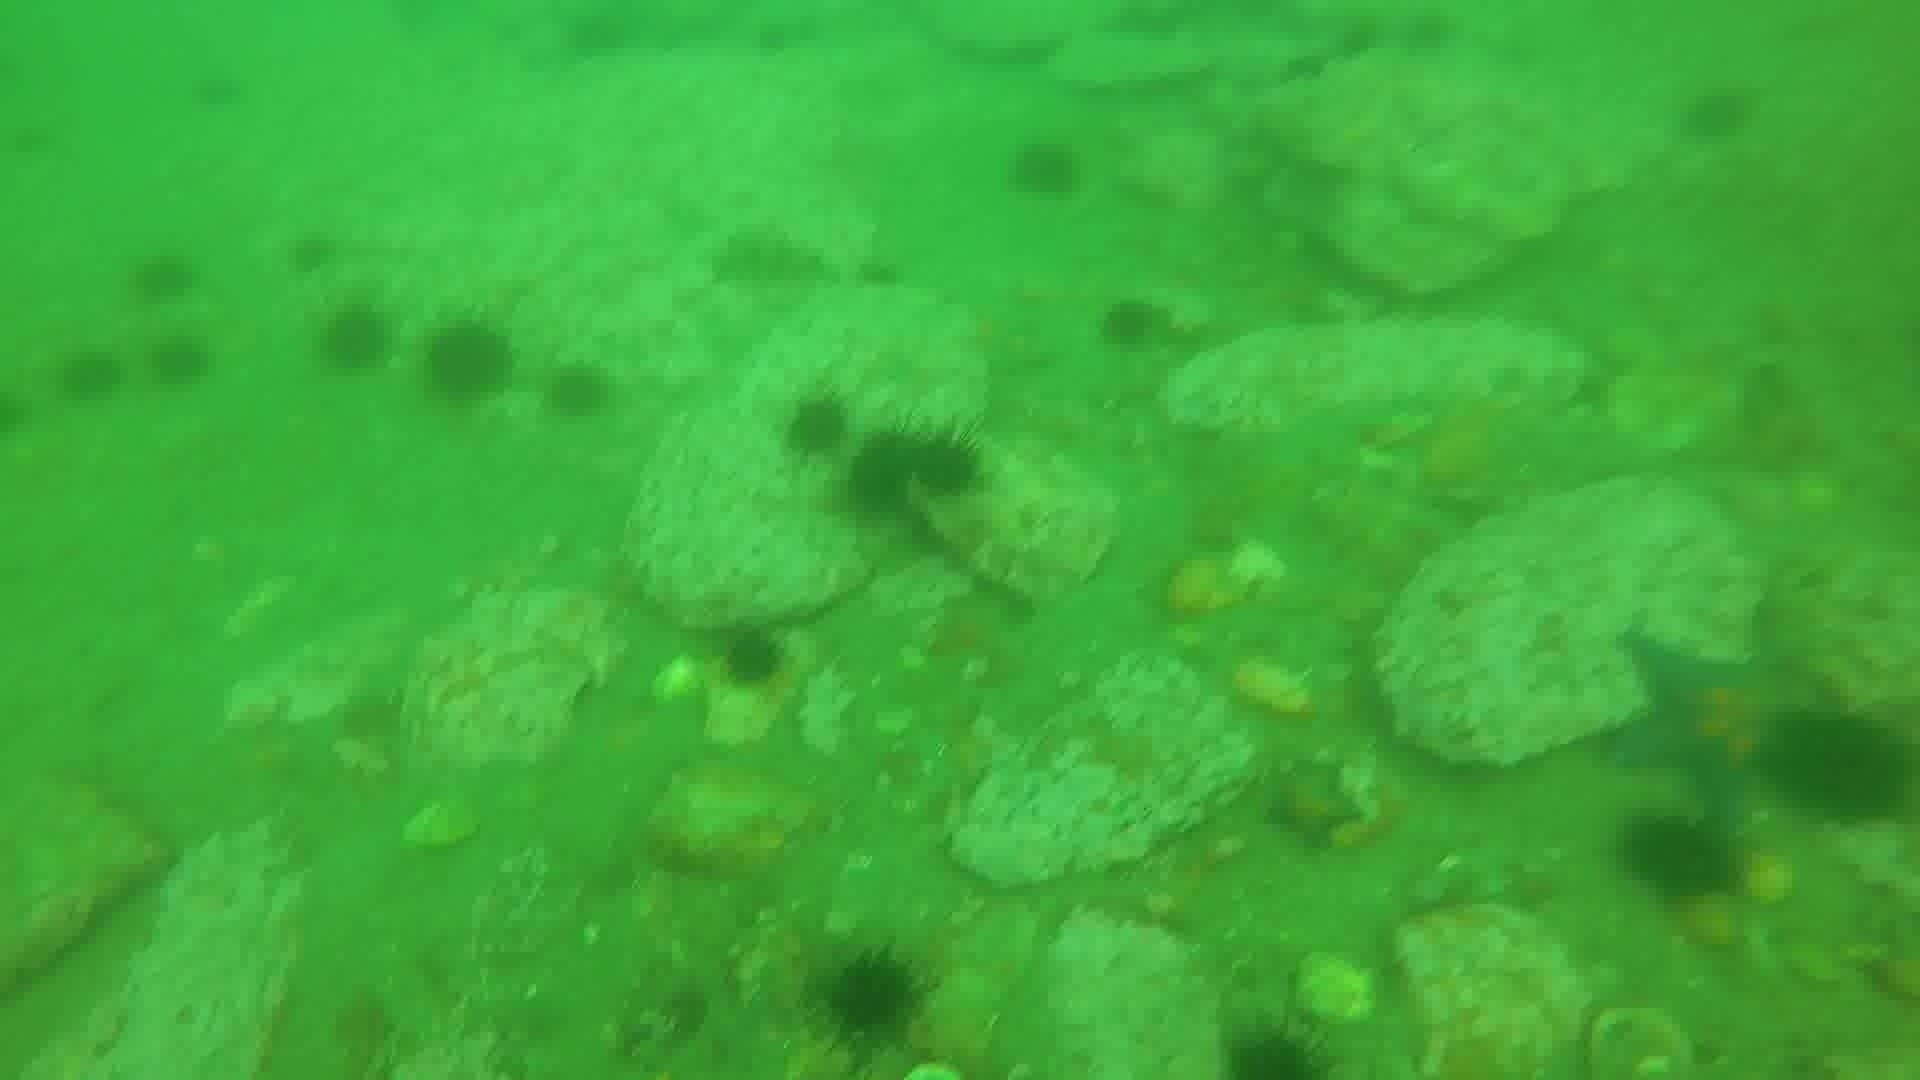echinus: (1762, 703, 1912, 828), (1615, 808, 1745, 907), (815, 947, 924, 1046), (419, 318, 516, 407), (839, 431, 922, 520), (1217, 1018, 1340, 1077), (903, 425, 989, 504), (315, 302, 394, 376), (711, 622, 790, 694), (1005, 137, 1087, 203), (779, 392, 855, 462), (1677, 83, 1756, 146), (541, 360, 615, 425), (54, 345, 127, 407), (127, 247, 200, 307), (1095, 295, 1166, 355), (145, 332, 214, 393), (185, 65, 249, 115), (284, 228, 339, 280)
holothurian: (705, 224, 829, 291)
starfish: (1609, 636, 1800, 819), (1259, 754, 1367, 853), (922, 587, 1027, 673)
